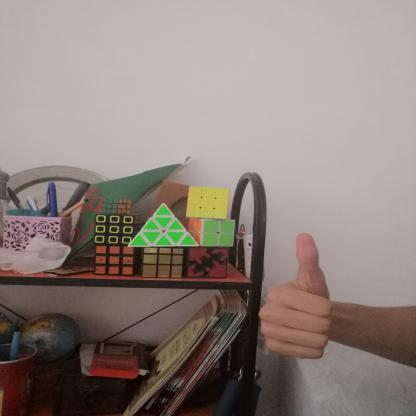ALIF: (248, 224, 343, 367)
